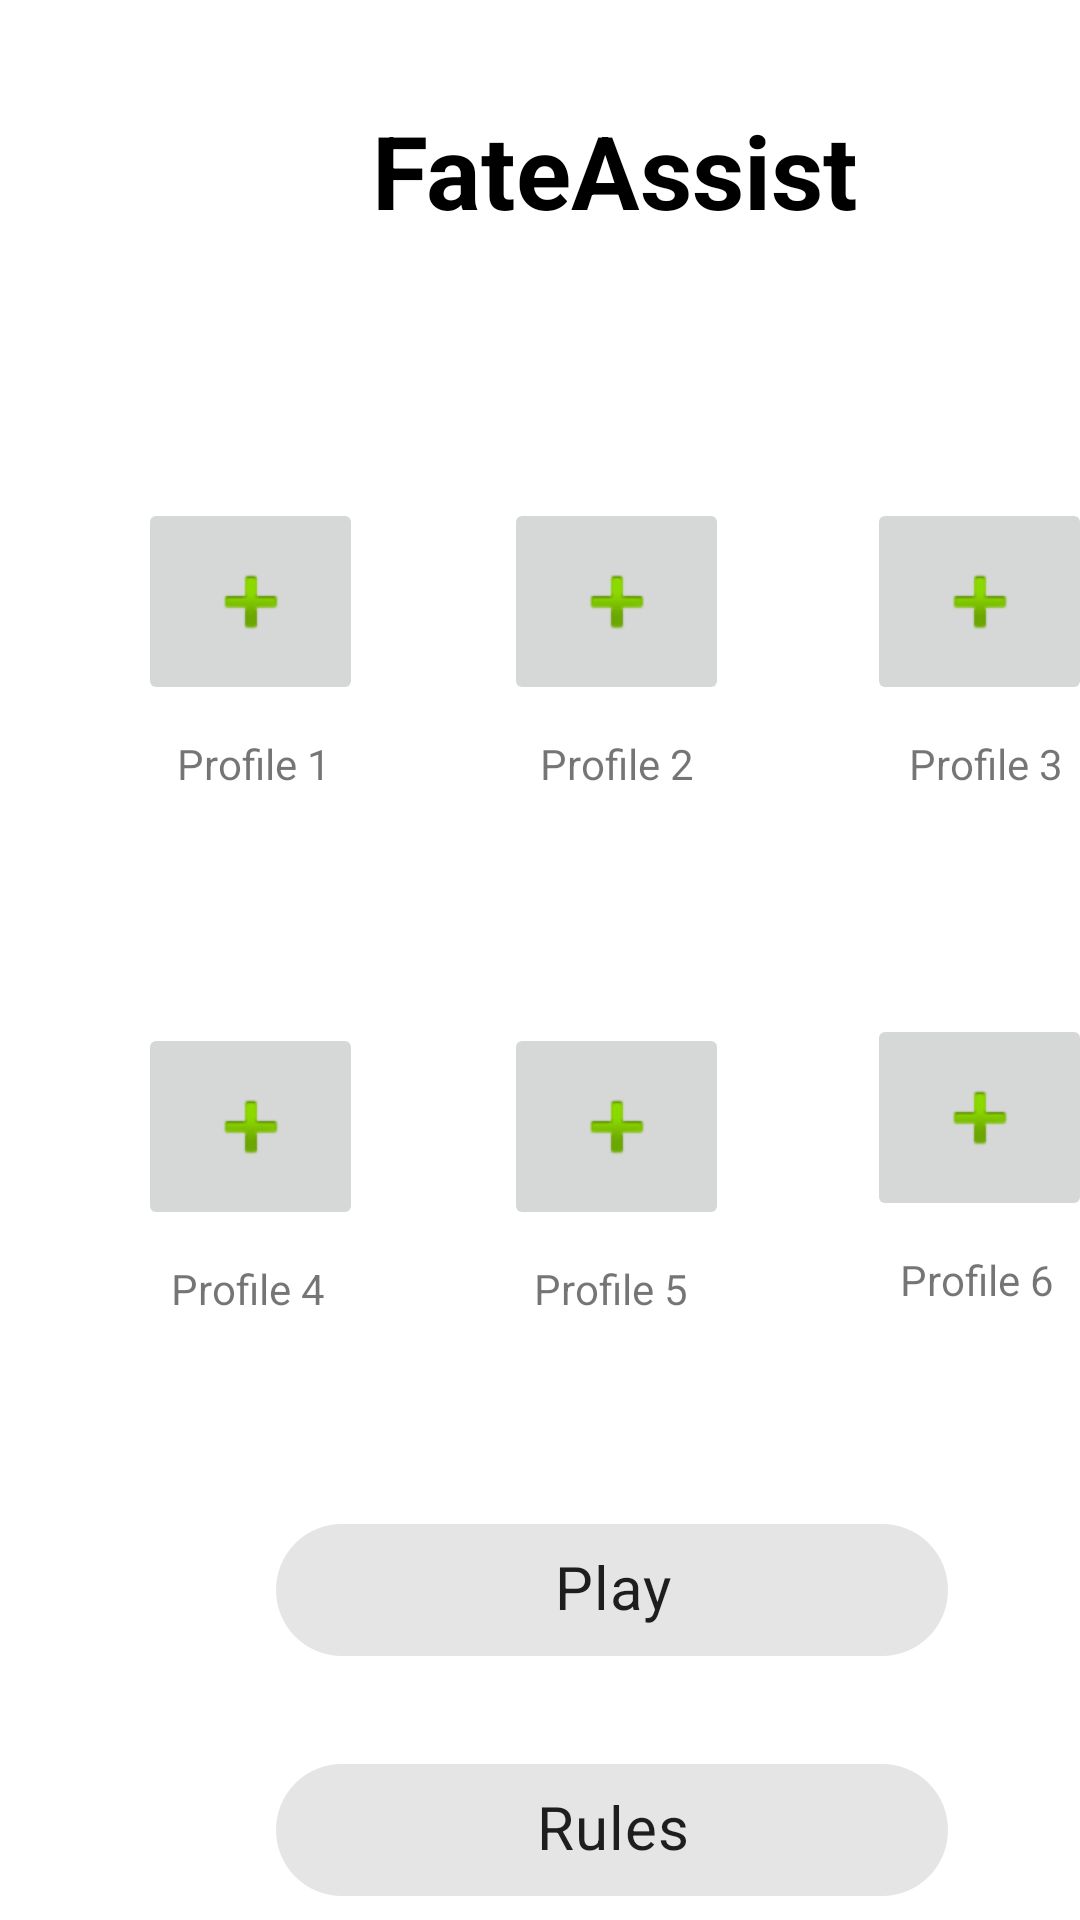

Locate icon controls on the screen. Image size 1080 × 1920, boxes as box(x1, y1, x2, y2).
add: box(150, 516, 351, 687), box(516, 516, 717, 687), box(879, 516, 1080, 687), box(879, 1032, 1080, 1203), box(150, 1041, 351, 1212), box(516, 1041, 717, 1212)
